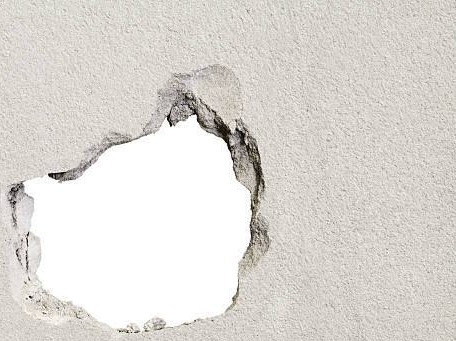Spalling: (6, 87, 273, 335)
